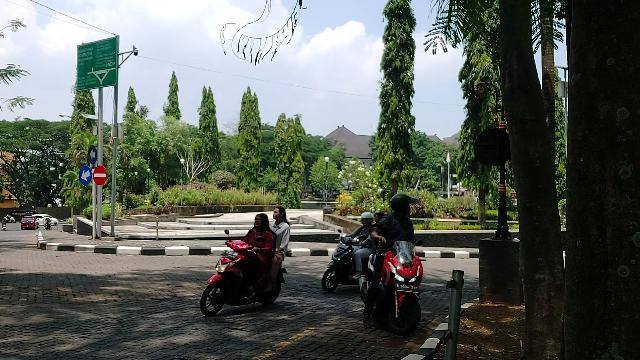helm: (391, 195, 419, 216), (362, 214, 374, 227)
motor: (201, 241, 288, 317), (361, 245, 423, 337), (323, 237, 357, 293)
non-helm: (255, 215, 269, 230), (274, 208, 286, 220), (376, 214, 386, 224)
